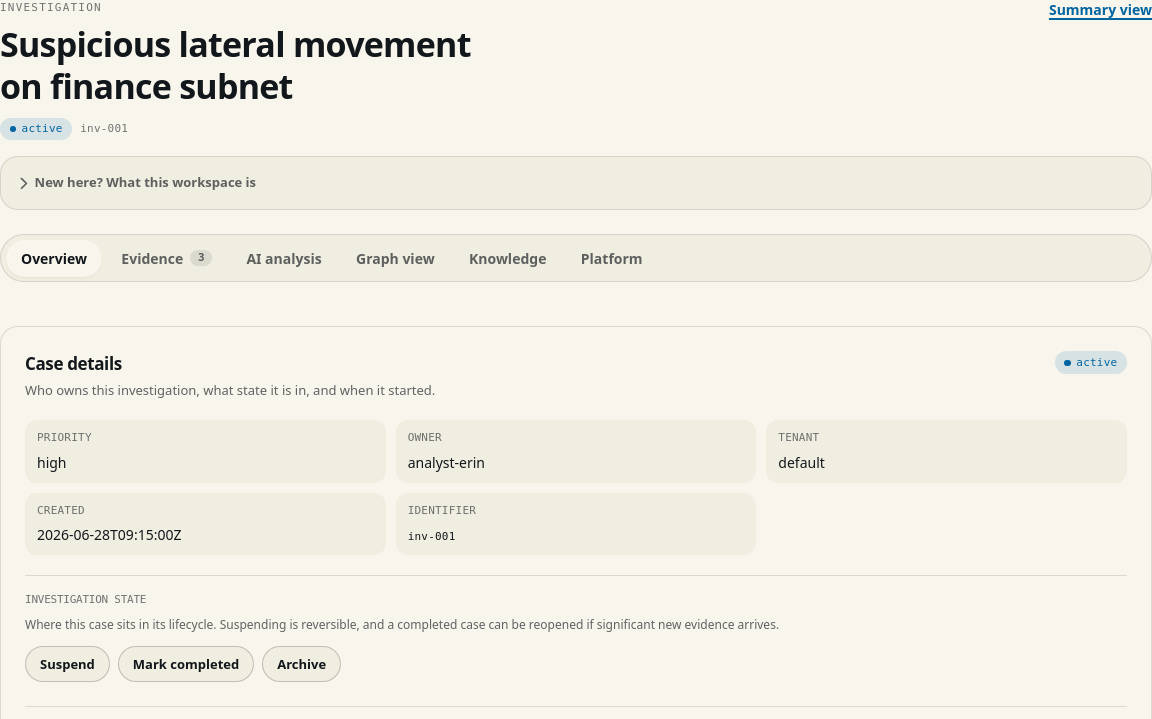
InvestigationWorkspacePage › highlights supporting evidence when a finding is selected
Click the tab "Evidence 3".
click(167, 258)  # box [106,240,227,277]
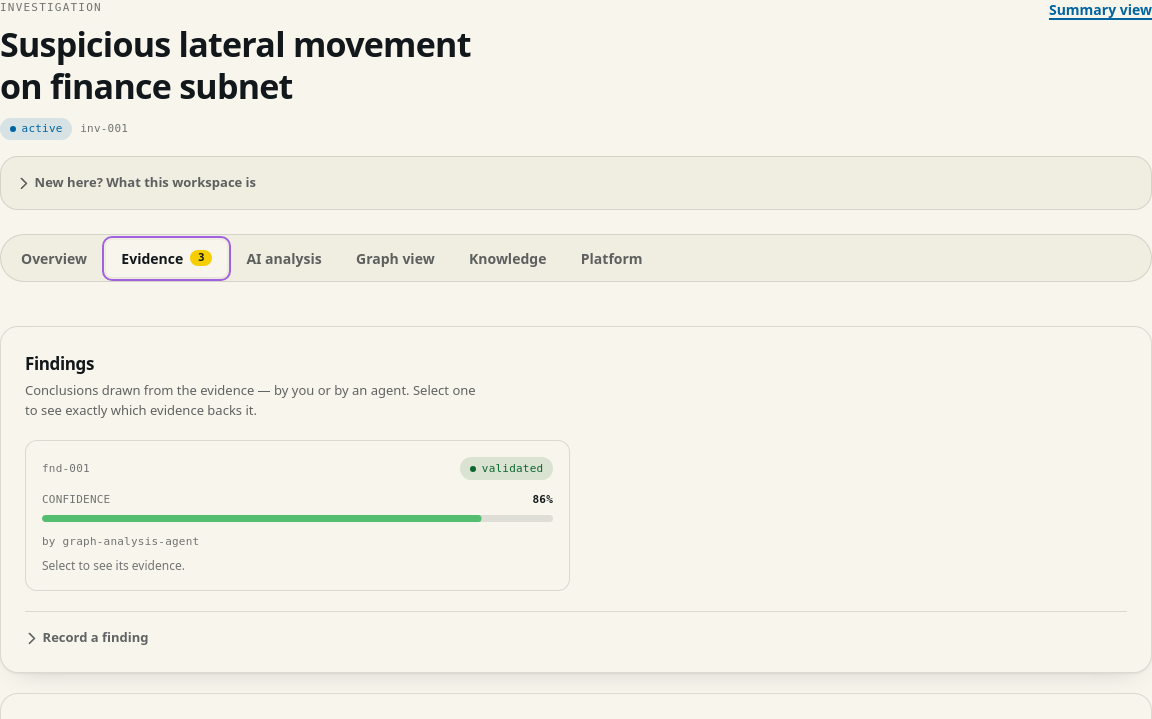
Expected: the text "supports finding" is not shown
Click the button "fnd-001".
click(298, 516)  # box [25,440,570,591]
(page scrolled)
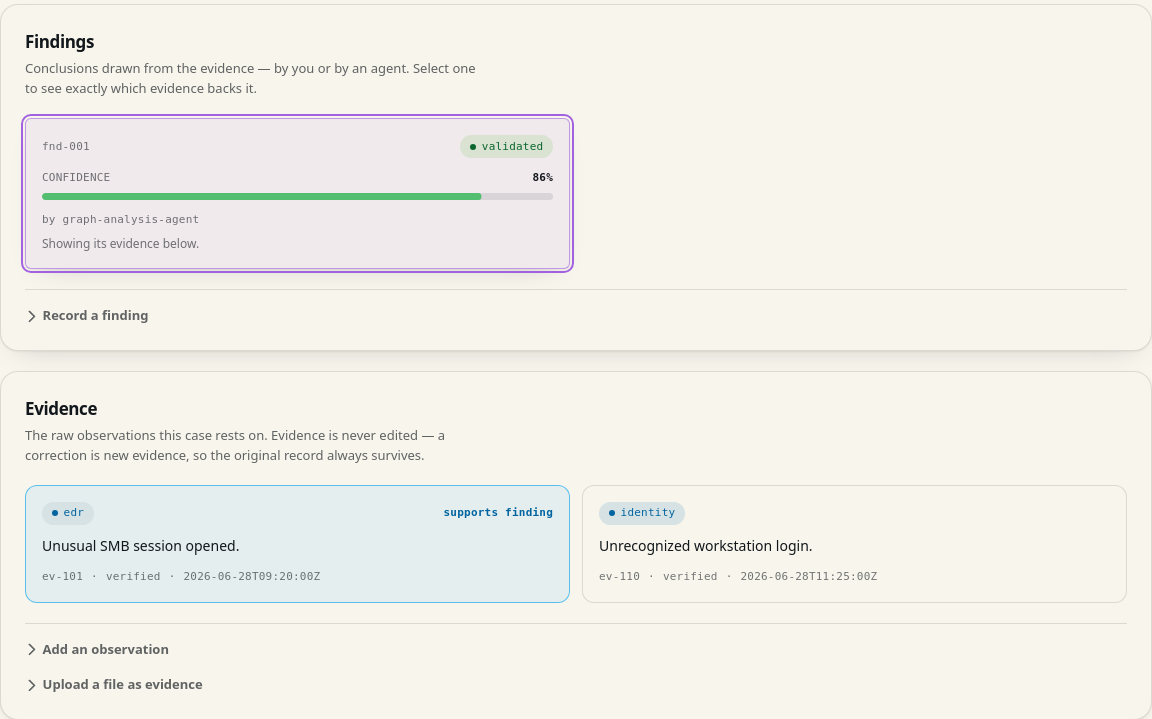
Expected: the text "supports finding" is shown, [444,505,553,522]
